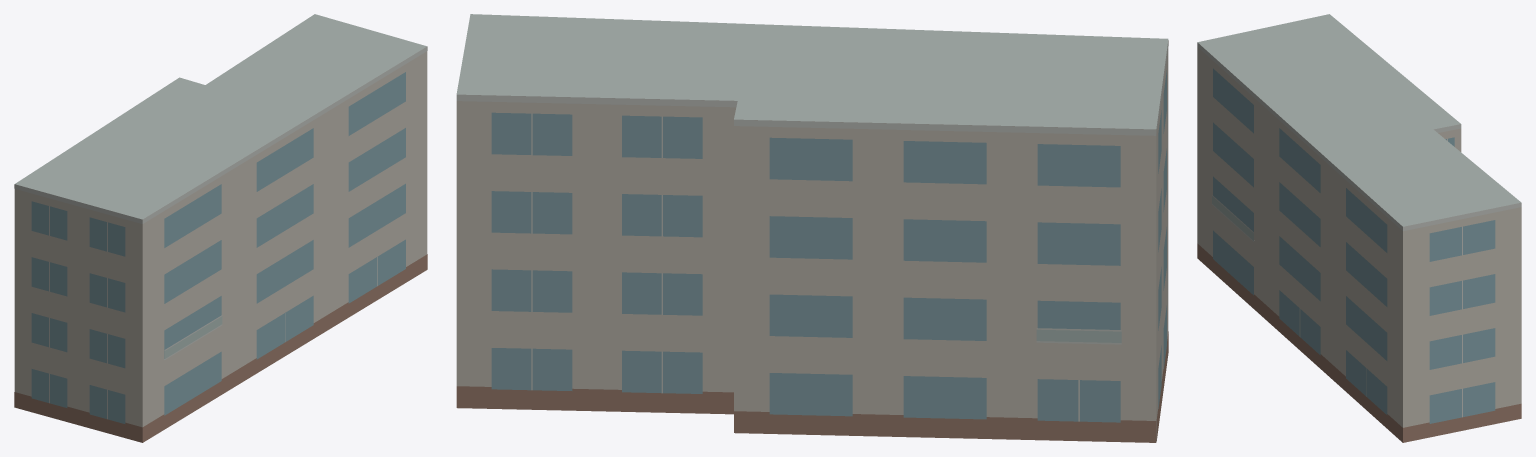
The model's file is survey-upis-32731011.glb.
3 renders of one model, left to right at view 1: azimuth 30°, elevation 25°; view 2: azimuth 150°, elevation 25°; view 3: azimuth 270°, elevation 25°, orthographic. The views are drawn at different scales.
Visible parts, largest first — view 1: survey-upis-32731011.tmp; view 2: survey-upis-32731011.tmp; view 3: survey-upis-32731011.tmp.
Part boxes in pixels (bbox=[...]): survey-upis-32731011.tmp: bbox=[14, 14, 427, 442]; survey-upis-32731011.tmp: bbox=[456, 14, 1168, 442]; survey-upis-32731011.tmp: bbox=[1197, 14, 1521, 442].
Size of the model in its own units: 25.02 by 11.84 by 16.11.
